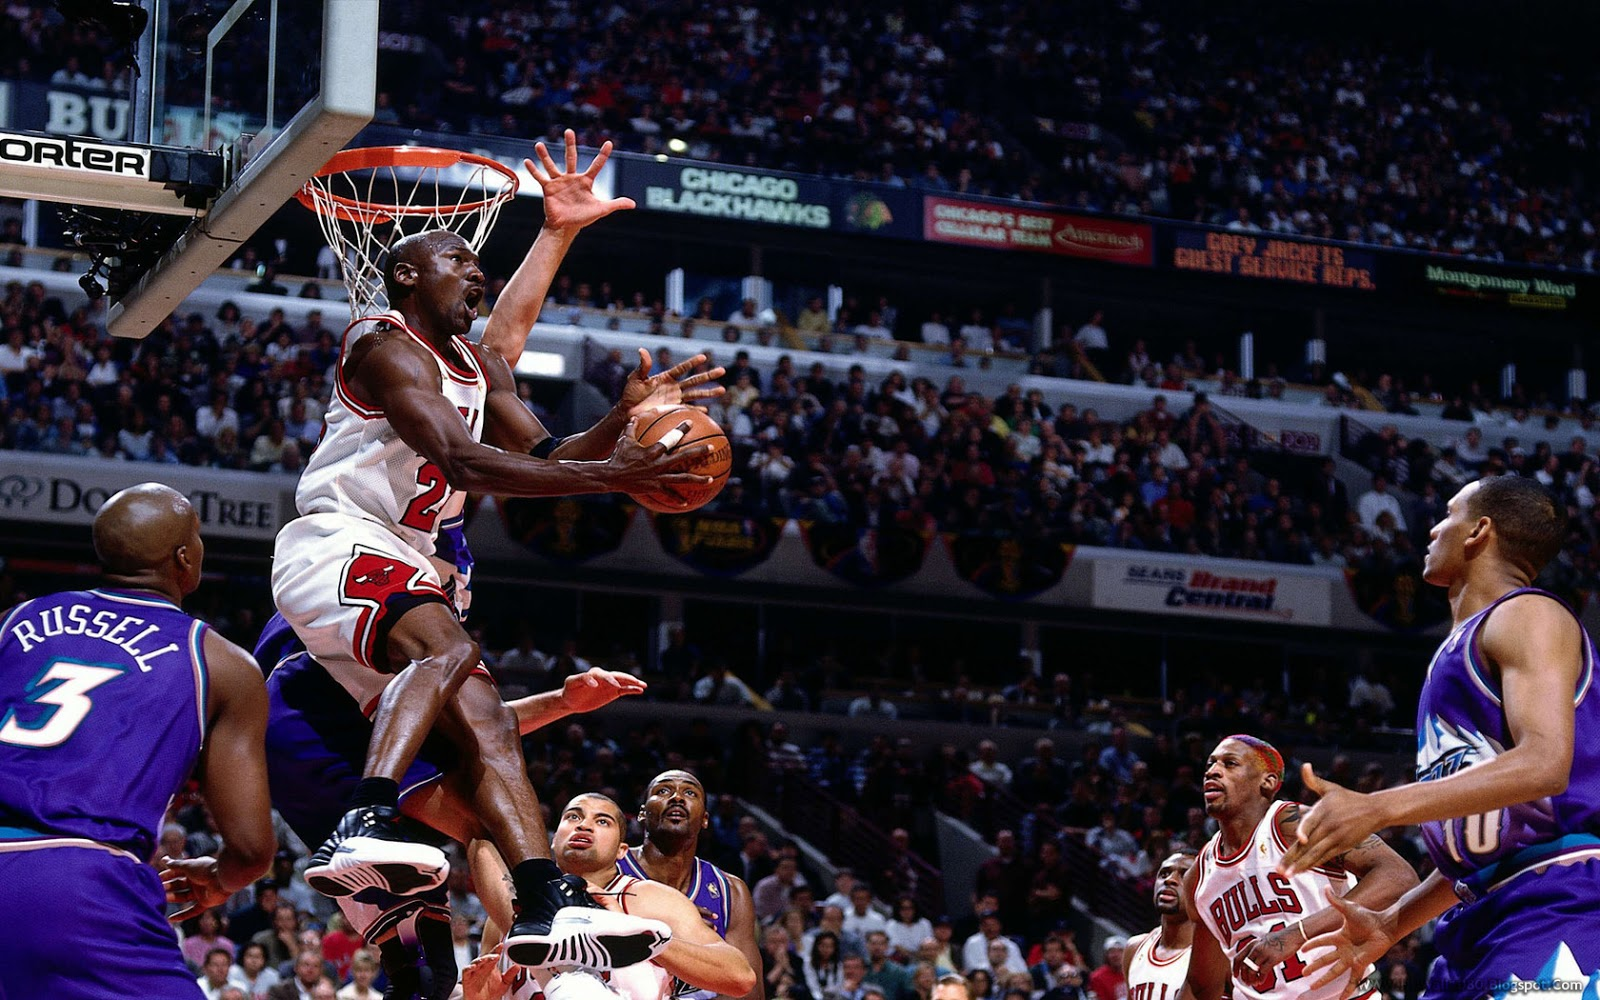shoot: (271, 214, 746, 806)
